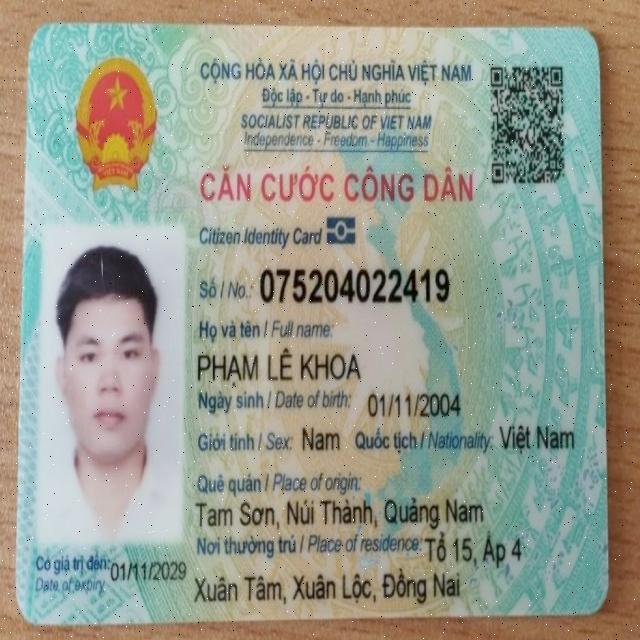current_place: (190, 560, 469, 607), (423, 527, 523, 568)
dob: (364, 385, 463, 421)
expire_date: (107, 556, 185, 588)
gender: (297, 419, 343, 455)
id: (254, 260, 455, 308)
name: (194, 343, 367, 387)
nationality: (496, 419, 576, 456)
origin_place: (191, 494, 489, 527)
